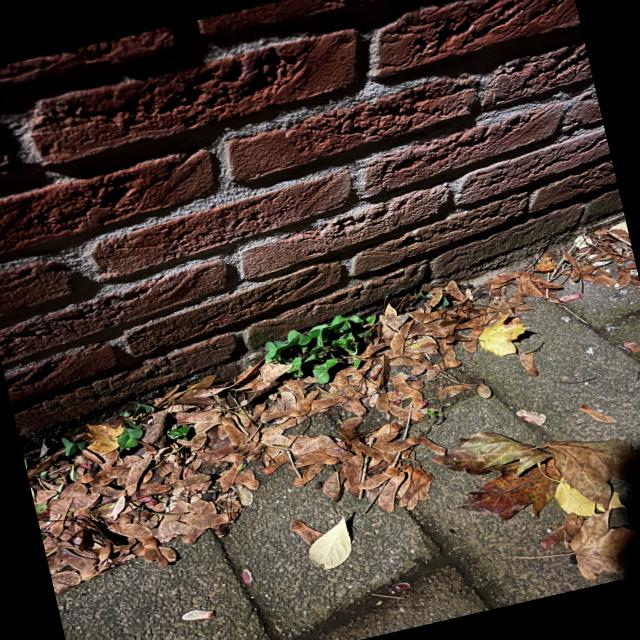leaves: (23, 227, 638, 582)
pavement: (56, 281, 639, 639)
weed: (255, 308, 381, 384), (116, 418, 157, 450)
